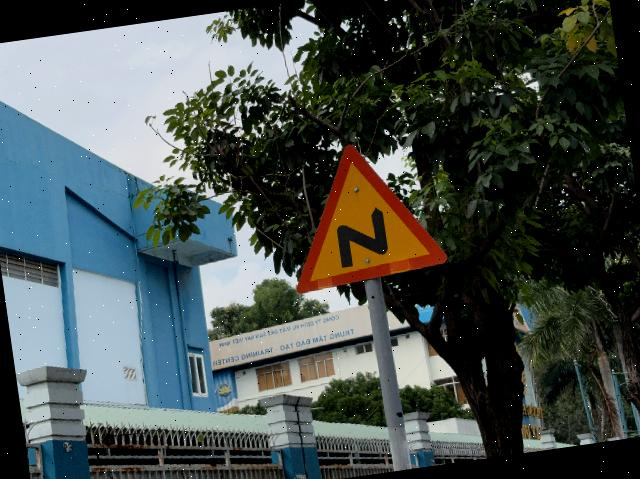nhieu-cho-ngoat-nguy-hiem-lien-tiep: (278, 134, 450, 294)
